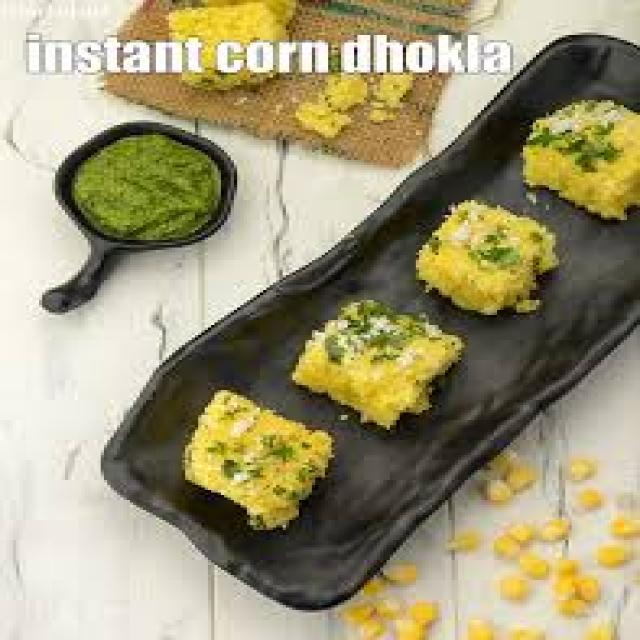DHOKLA: (285, 299, 469, 429), (179, 394, 332, 530), (415, 203, 553, 317), (521, 100, 637, 219)
